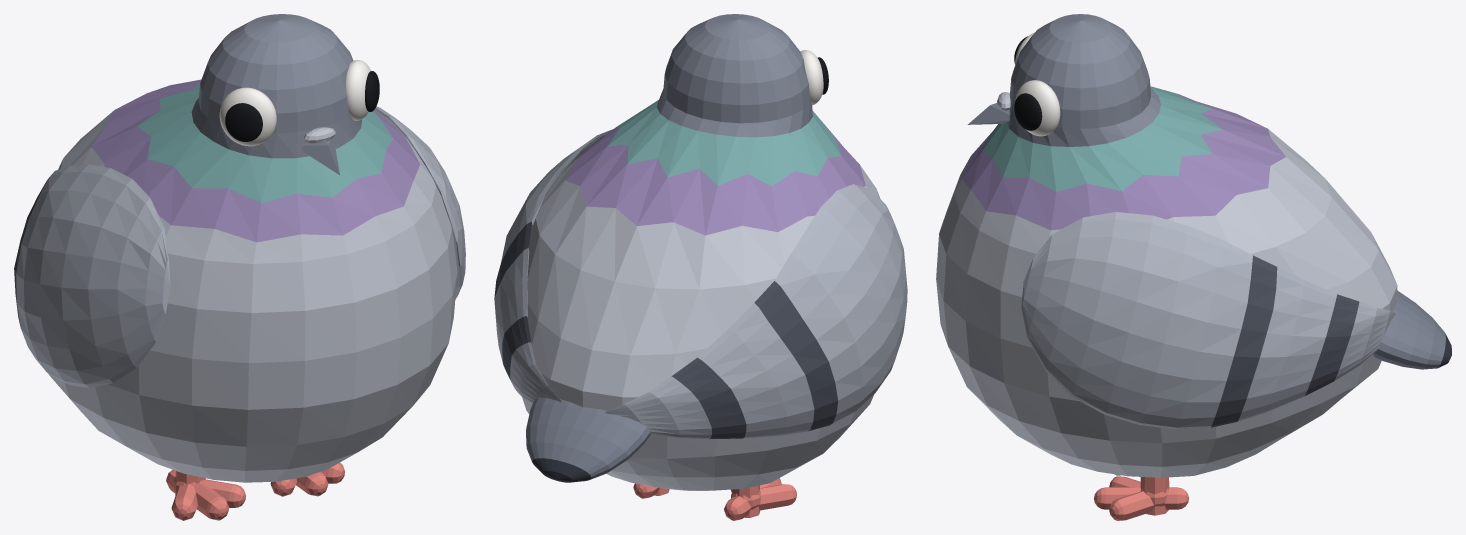
Rendered from pigeon-refined-v5.glb.
3 renders of one model, left to right at view 1: azimuth 30°, elevation 25°; view 2: azimuth 150°, elevation 25°; view 3: azimuth 270°, elevation 25°, orthographic. The views are drawn at different scales.
Parts seen in each view (by area): view 1: torso, neck, wing_right, head, wing_left, eye_right_white, eye_right_pupil, eye_left_white, toe_right_middle, toe_right_outer, beak, toe_right_inner (+1 smaller); view 2: torso, wing_right, neck, head, tail, wing_left, toe_right_outer, eye_right_white, toe_right_hind; view 3: wing_left, torso, neck, head, tail, eye_left_white, toe_left_outer, eye_left_pupil, toe_left_middle, shank_left.
Part boxes in pixels (<box>): torso: <box>48,110,457,482</box>; neck: <box>91,79,420,242</box>; wing_right: <box>14,164,170,387</box>; head: <box>191,14,361,158</box>; wing_left: <box>374,106,465,299</box>; eye_right_white: <box>219,87,276,146</box>; eye_right_pupil: <box>225,103,262,141</box>; eye_left_white: <box>346,60,370,120</box>; toe_right_middle: <box>193,483,229,520</box>; toe_right_outer: <box>171,483,197,520</box>; beak: <box>301,139,339,174</box>; toe_right_inner: <box>202,479,245,507</box>; torso: <box>522,155,880,490</box>; wing_right: <box>605,184,907,439</box>; neck: <box>565,100,865,235</box>; head: <box>657,14,812,137</box>; tail: <box>526,397,650,482</box>; wing_left: <box>494,129,612,404</box>; toe_right_outer: <box>759,484,796,510</box>; eye_right_white: <box>800,50,823,105</box>; toe_right_hind: <box>724,496,751,520</box>; wing_left: <box>1021,212,1395,429</box>; torso: <box>936,129,1397,477</box>; neck: <box>962,86,1285,230</box>; head: <box>1007,14,1160,146</box>; tail: <box>1373,290,1451,369</box>; eye_left_white: <box>1015,80,1060,136</box>; toe_left_outer: <box>1109,491,1154,520</box>; eye_left_pupil: <box>1014,93,1042,130</box>; toe_left_middle: <box>1094,487,1140,509</box>; shank_left: <box>1140,477,1169,515</box>.
Bounding box in the file's own units: 0.2886 × 0.3455 × 0.3465.
